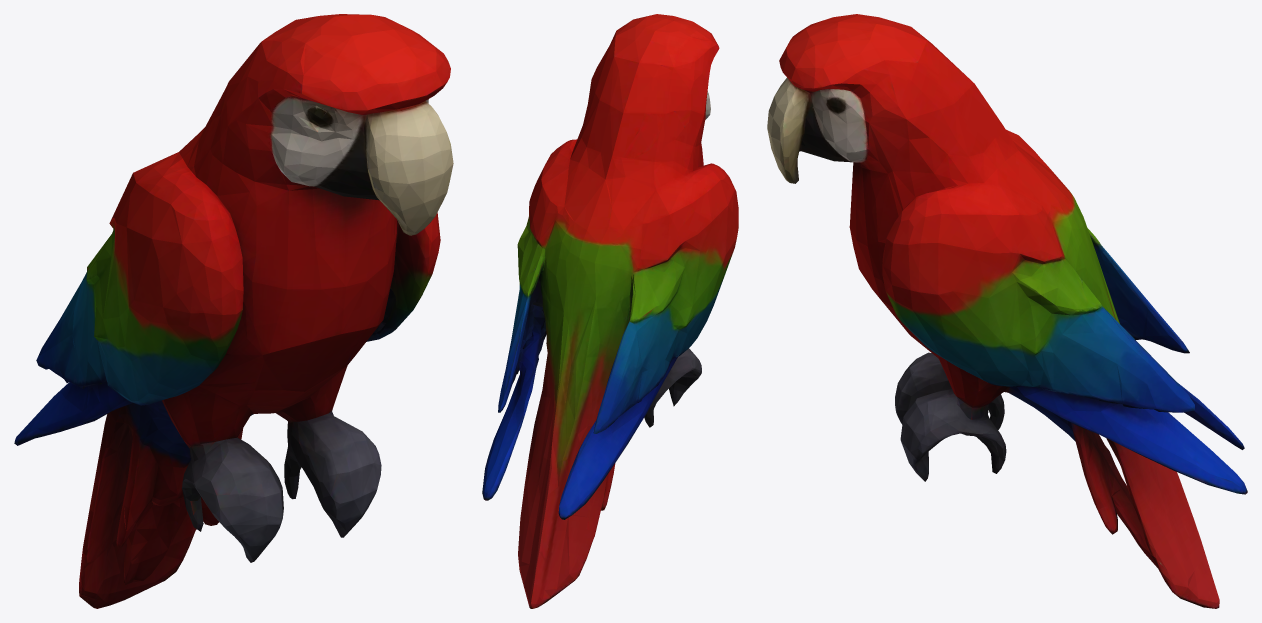
Rendered from parrot.glb.
The picture shows the model from 3 angles, left to right: view 1: azimuth 30°, elevation 25°; view 2: azimuth 150°, elevation 25°; view 3: azimuth 270°, elevation 25°; orthographic projection. The views are drawn at different scales.
Parts seen in each view (by area): view 1: world; view 2: world; view 3: world.
Part boxes in pixels (<box>): world: <box>14,14,453,608</box>; world: <box>482,14,738,608</box>; world: <box>767,14,1247,608</box>.
Size of the model in its own units: 0.4084 by 0.9996 by 0.736.
Materials: 1 (1 with a texture image).
